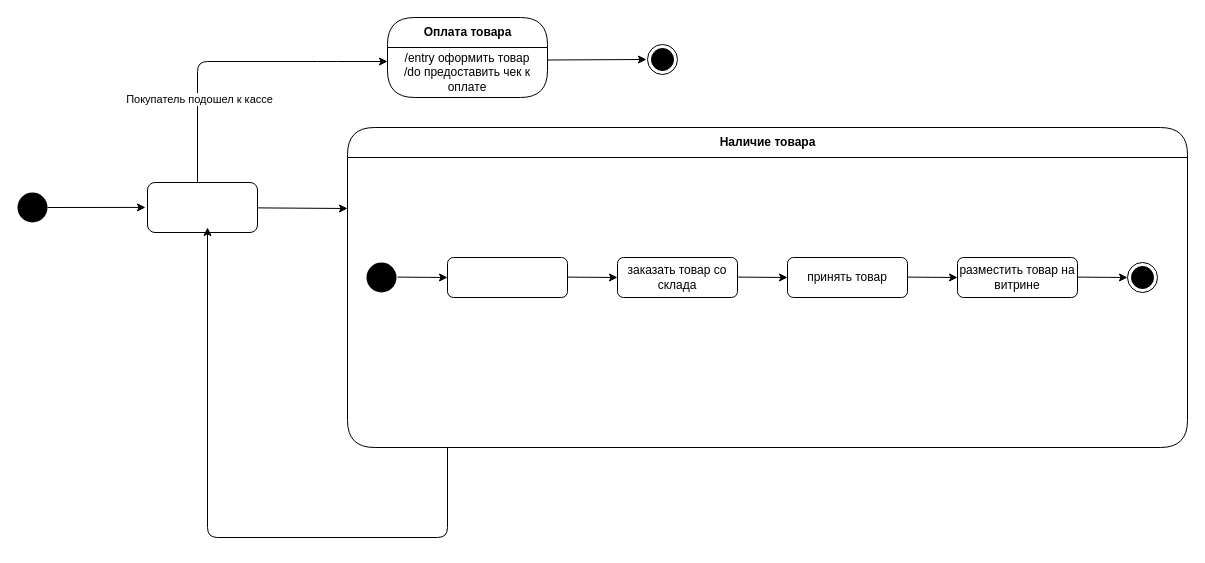
Some shapes in this 1205 by 563 pixel diagram are drawn without their labels. Each missing label, with the centre of its shape:
Ожидание: the point at 202,207
проверить товар на винтрине: the point at 507,277
